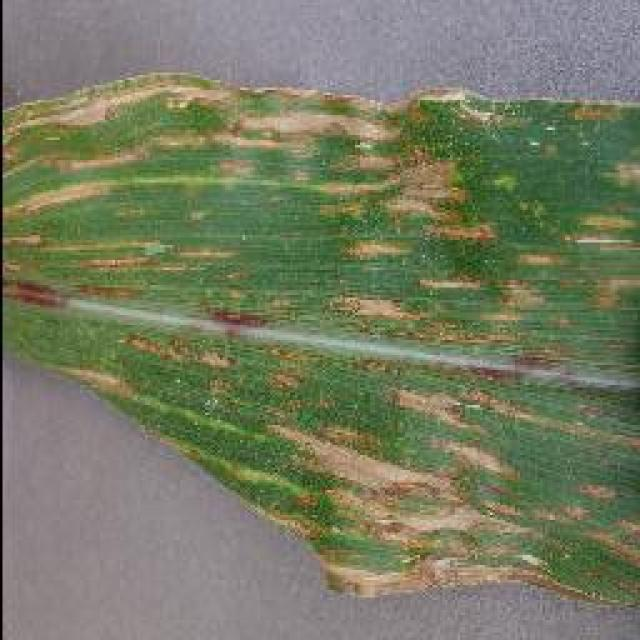Corn_Grey_Leaf_Spot: (37, 87, 640, 567)
